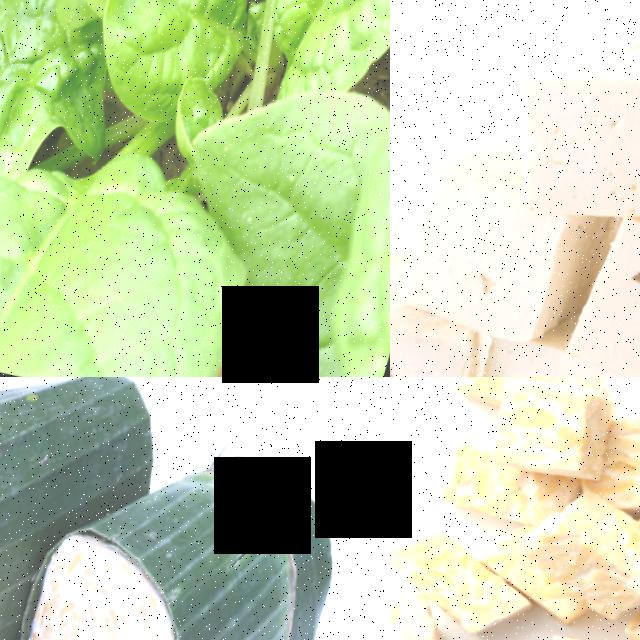spinach: (0, 102, 267, 377), (212, 77, 390, 377), (81, 0, 282, 144), (221, 0, 390, 114)
tempeh: (0, 525, 213, 640), (478, 377, 626, 497)
tofu: (390, 126, 561, 338), (501, 0, 640, 256), (390, 519, 536, 639), (519, 486, 640, 627), (574, 161, 640, 377), (390, 271, 507, 377), (426, 449, 545, 534), (479, 337, 640, 377), (390, 569, 463, 640)
